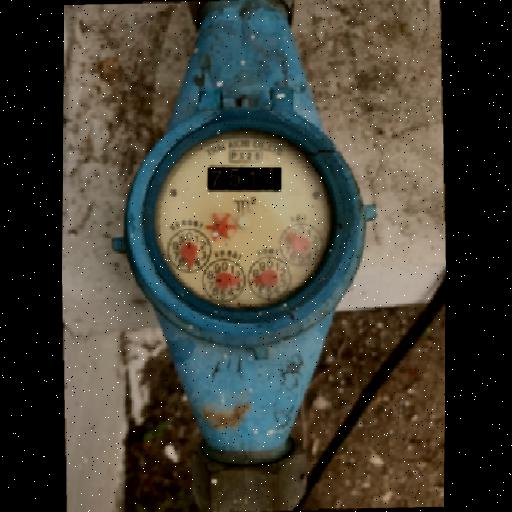1: (263, 168, 282, 191), (246, 168, 262, 191)
5: (227, 167, 244, 191)
7: (209, 167, 227, 191)
border_water_meter_number: (207, 166, 282, 192)
